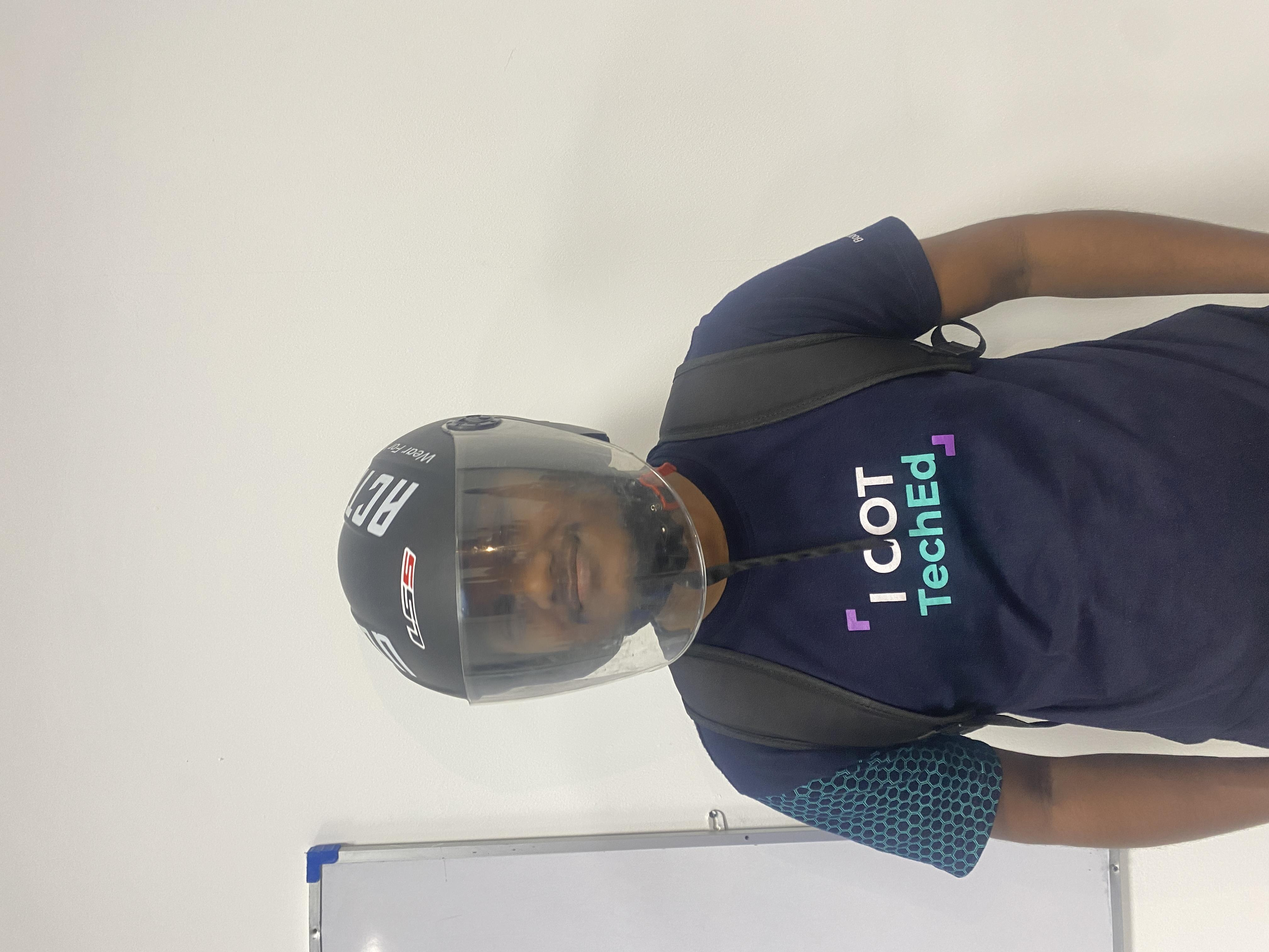helmet: (341, 255, 737, 538)
